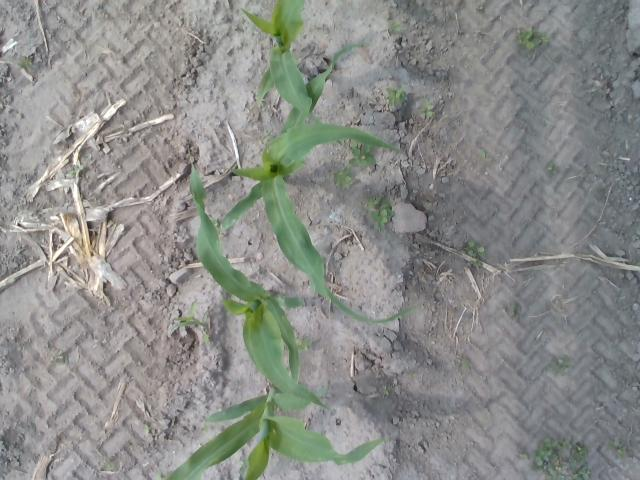Maize: (218, 43, 416, 325), (184, 148, 330, 413), (160, 382, 392, 480), (238, 0, 326, 127)
Weeds: (530, 437, 591, 480), (170, 301, 212, 345), (368, 198, 396, 229), (348, 138, 376, 168), (515, 28, 542, 51), (333, 166, 353, 190), (292, 330, 313, 352), (550, 357, 573, 377), (463, 240, 488, 258), (386, 87, 406, 106), (419, 98, 435, 118), (386, 18, 401, 34), (258, 130, 274, 144), (478, 148, 492, 164), (56, 351, 70, 364), (546, 162, 559, 176), (509, 301, 521, 316), (209, 217, 220, 233), (70, 164, 84, 176), (238, 458, 248, 474), (606, 440, 622, 449), (20, 56, 32, 68), (469, 258, 483, 268), (460, 356, 469, 370), (616, 446, 626, 458), (516, 452, 529, 460), (379, 385, 389, 395), (154, 472, 166, 480), (144, 422, 152, 434), (200, 426, 212, 432), (106, 462, 115, 470), (542, 34, 550, 42), (477, 3, 483, 10)
